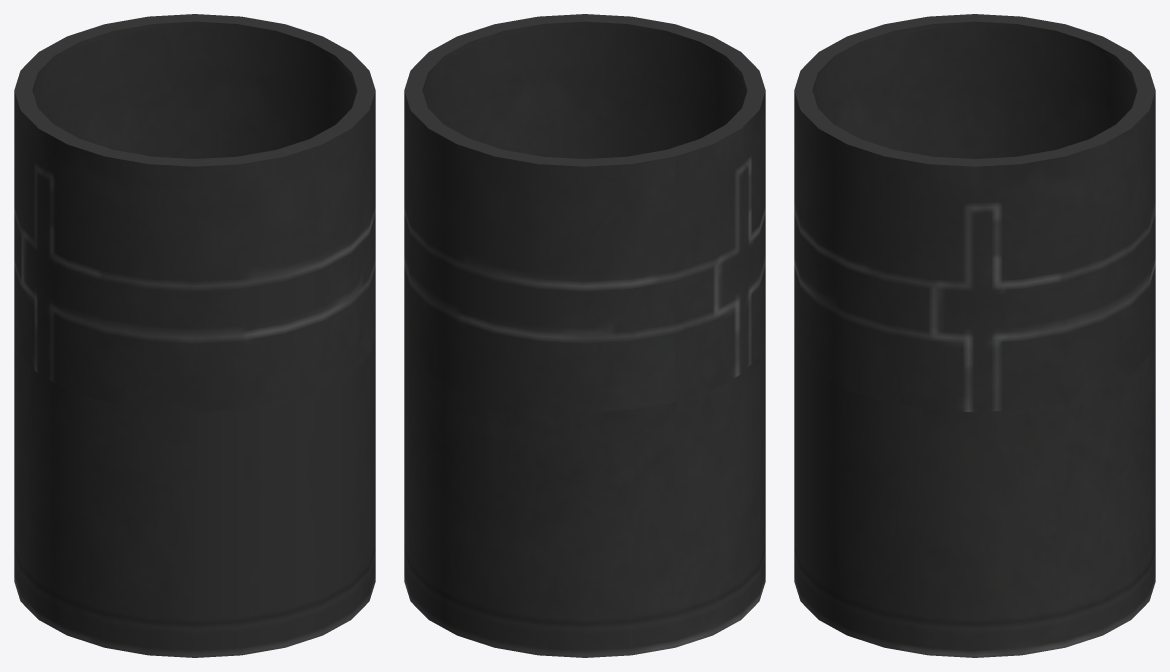
File: fus2bare.obj
3 renders of one model, left to right at view 1: azimuth 30°, elevation 25°; view 2: azimuth 150°, elevation 25°; view 3: azimuth 270°, elevation 25°, orthographic.
Visible parts, largest first — view 1: 1; view 2: 1; view 3: 1.
Part boxes in pixels (x1,y1,x2,y2): 1: (14, 14, 375, 657); 1: (404, 14, 765, 657); 1: (794, 14, 1155, 657).
Bounding box in the file's own units: 2.5 × 3.75 × 2.5.
